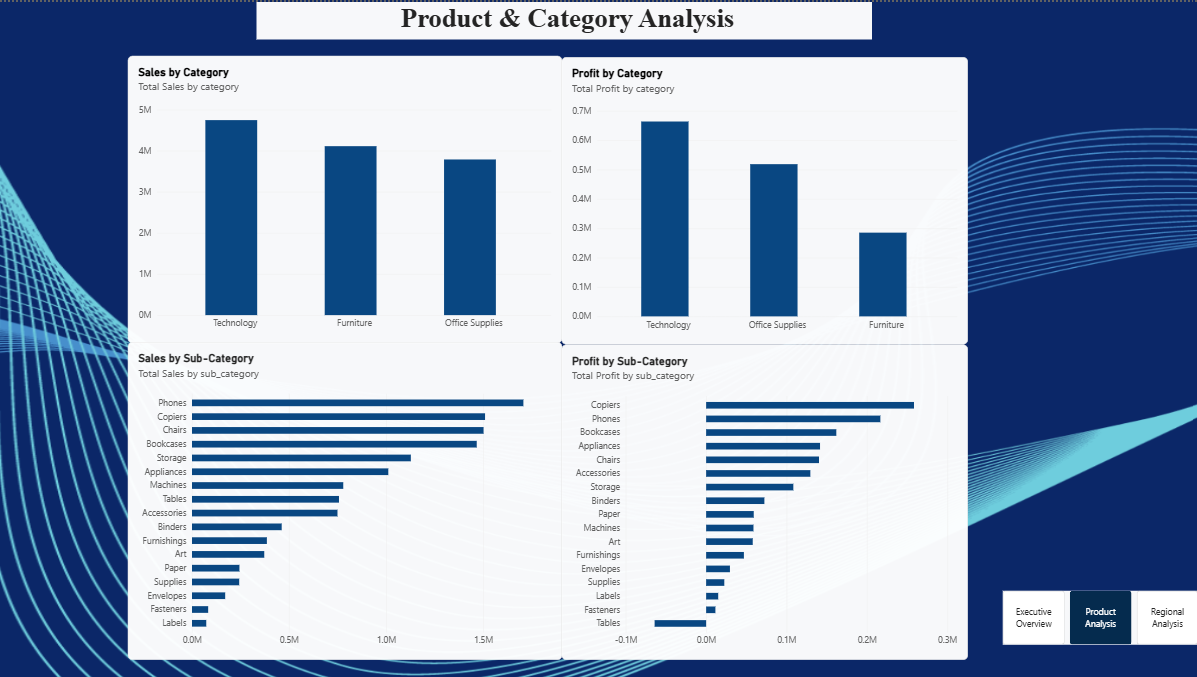

This screenshot's page, from the dashboard's own definition file:
{"tool":"powerbi","page":{"name":"Product Analysis","canvas":[1920,1080],"ordinal":1},"visuals":[{"type":"textbox","box":[411.7,0,984.5,60.2],"z":0},{"type":"clusteredColumnChart","title":"Sales by Category","fields":{"Category":["global_retail.category"],"Y":["KPIs.Total Sales"]},"box":[205.8,85.4,695.1,460.2],"z":1000},{"type":"clusteredColumnChart","title":"Profit by Category","fields":{"Category":["global_retail.category"],"Y":["KPIs.Total Profit"]},"box":[901,87.4,650.5,460.2],"z":2000},{"type":"clusteredBarChart","title":"Sales by Sub-Category","fields":{"Category":["global_retail.sub_category"],"Y":["KPIs.Total Sales"]},"box":[205.8,543.7,695.1,508.7],"z":3000},{"type":"clusteredBarChart","title":"Profit by Sub-Category","fields":{"Category":["global_retail.sub_category"],"Y":["KPIs.Total Profit"]},"box":[901,547.6,650.5,504.9],"z":4000},{"type":"pageNavigator","box":[1667.6,1011.7,252.4,68],"z":4001}]}

Visuals, with their boxes in screenshot pixels (x1, y1, x2, y2), scaled from the page's 1920x1080 canvas onto the 1197x677 screenshot:
textbox: rect(257, 0, 870, 38)
"Sales by Category" clusteredColumnChart: rect(128, 54, 562, 342)
"Profit by Category" clusteredColumnChart: rect(562, 55, 967, 343)
"Sales by Sub-Category" clusteredBarChart: rect(128, 341, 562, 660)
"Profit by Sub-Category" clusteredBarChart: rect(562, 343, 967, 660)
pageNavigator: rect(1040, 634, 1196, 676)
